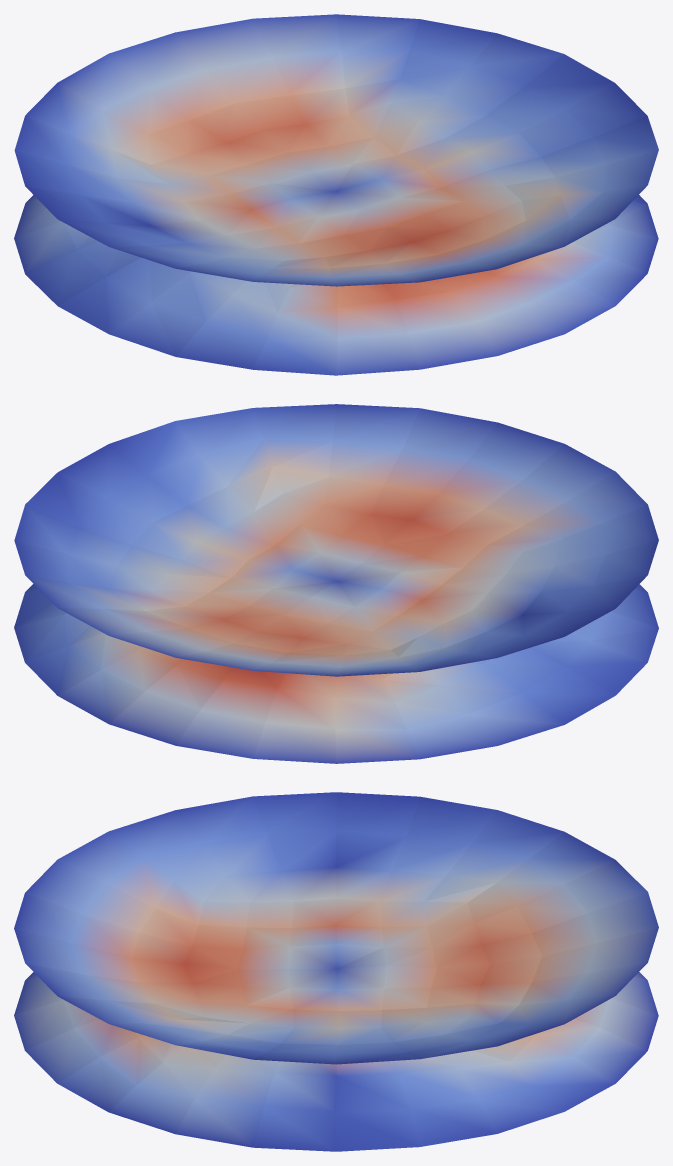
3 renders of one model, top to bottom at view 1: azimuth 30°, elevation 25°; view 2: azimuth 150°, elevation 25°; view 3: azimuth 270°, elevation 25°, orthographic.
Visible parts, largest first — view 1: converted_10; view 2: converted_10; view 3: converted_10.
Part boxes in pixels (left/top/right/bottom): converted_10: left=14, top=14, right=658, bottom=375; converted_10: left=14, top=404, right=658, bottom=763; converted_10: left=14, top=792, right=658, bottom=1151.
Bounding box in the file's own units: 20 × 3.07 × 20.
